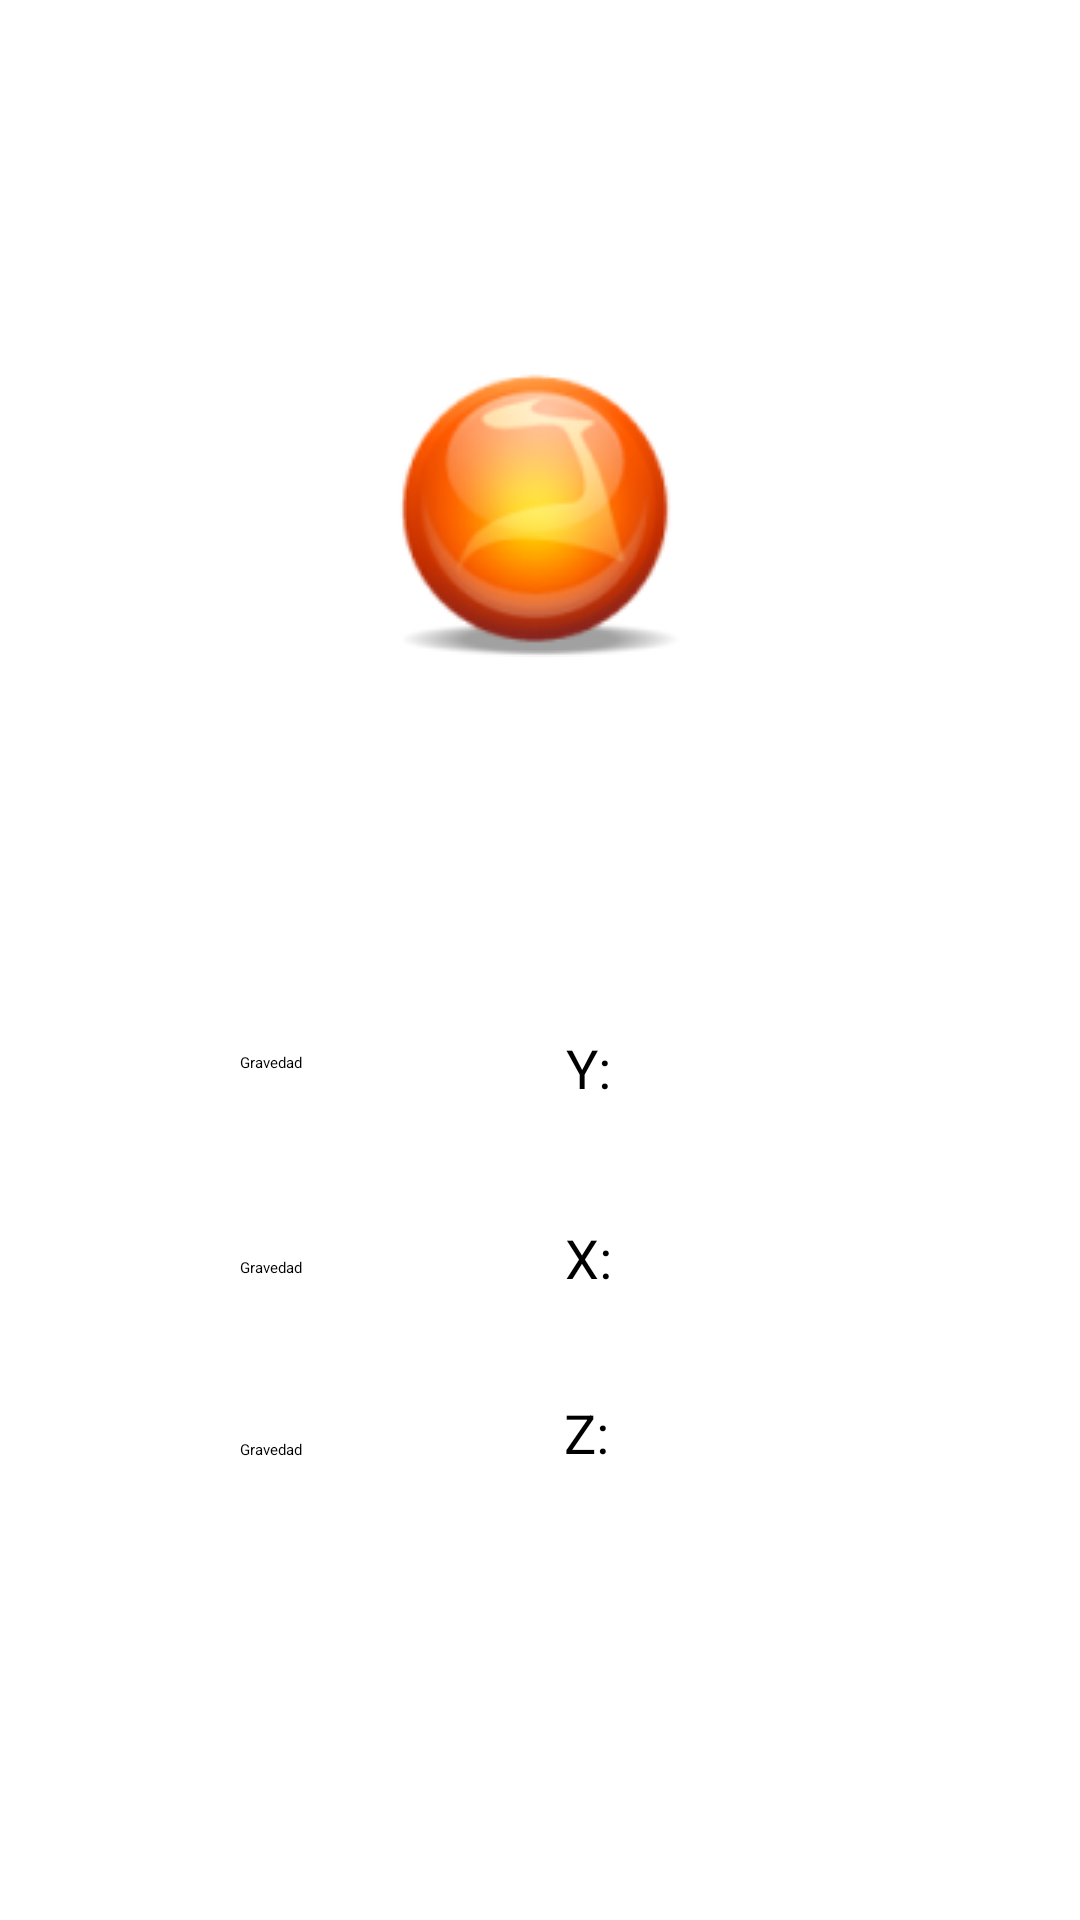

Named icons in this screenshot (1080×1920) and their bounding boxes, (x1, y1, x2, y2):
same ball: (402, 375, 670, 655)
